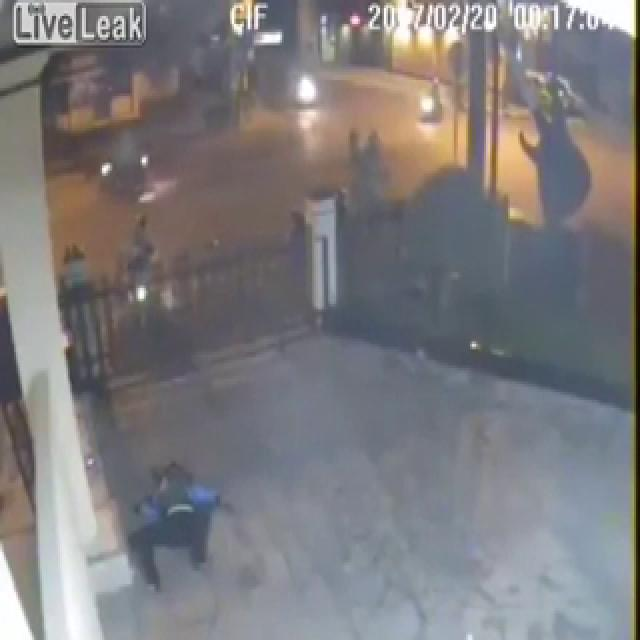road accidents: (202, 12, 502, 341)
